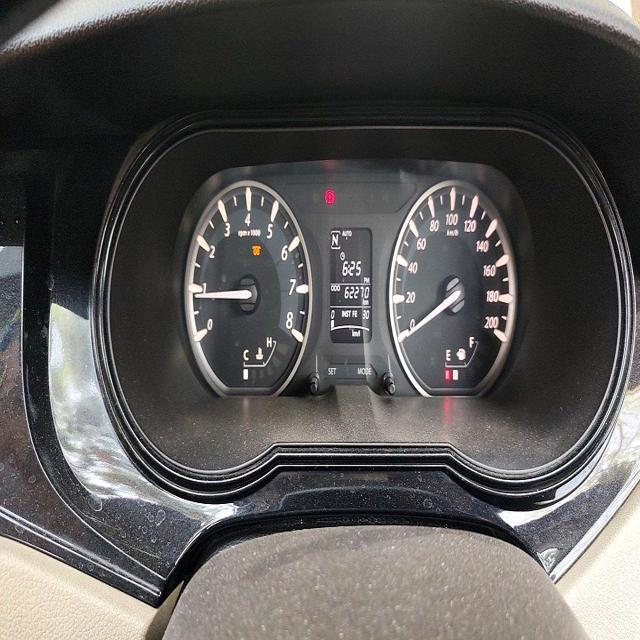odometer: (342, 282, 371, 302)
